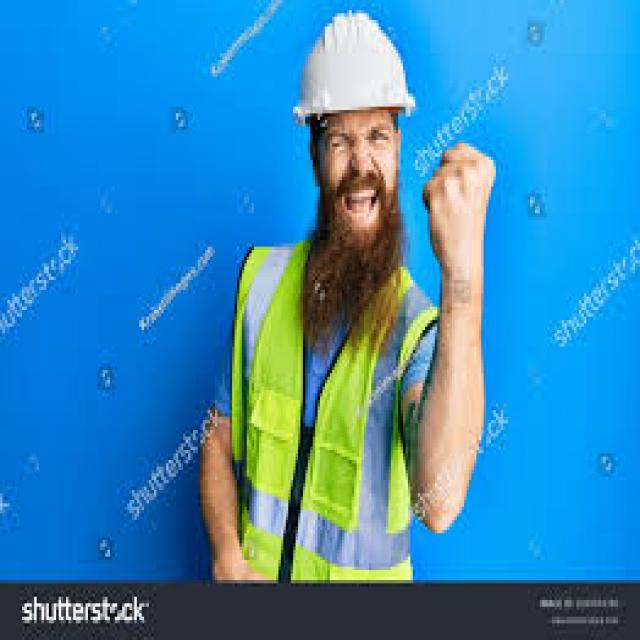Reflective-Jacket: (222, 247, 438, 580)
Safety-Helmet: (288, 7, 416, 130)
